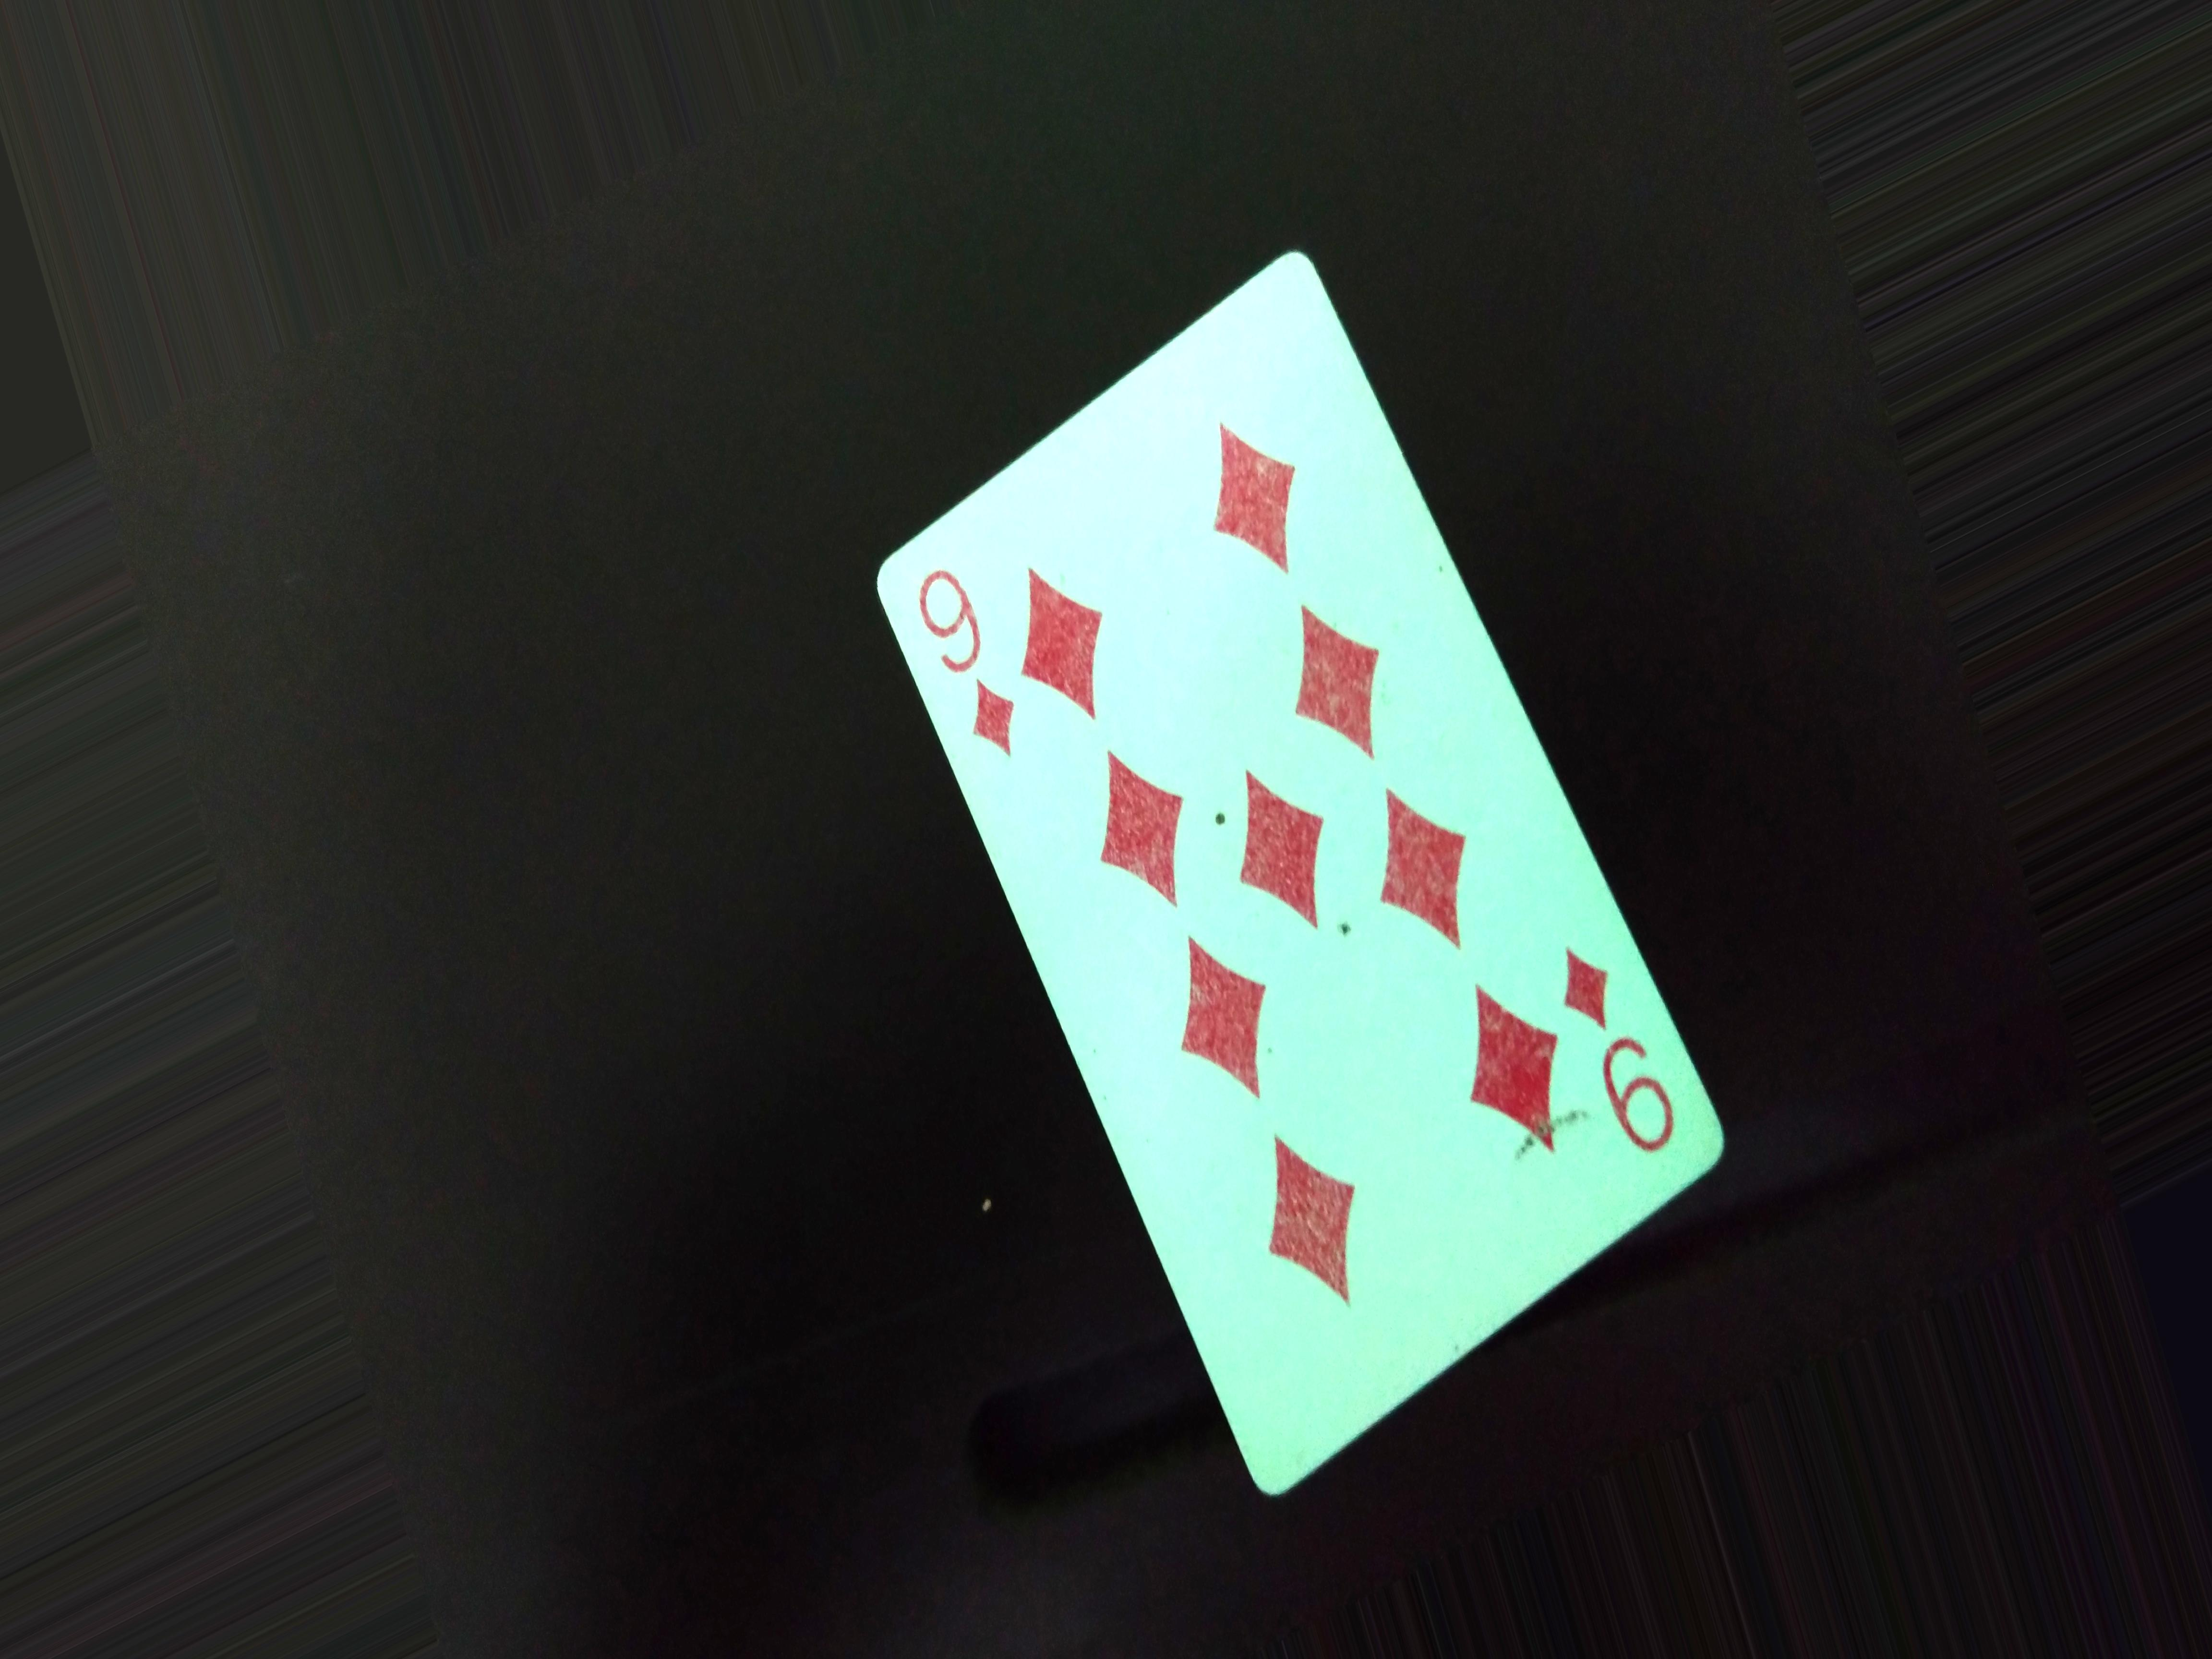9D: (906, 551, 1043, 777)
